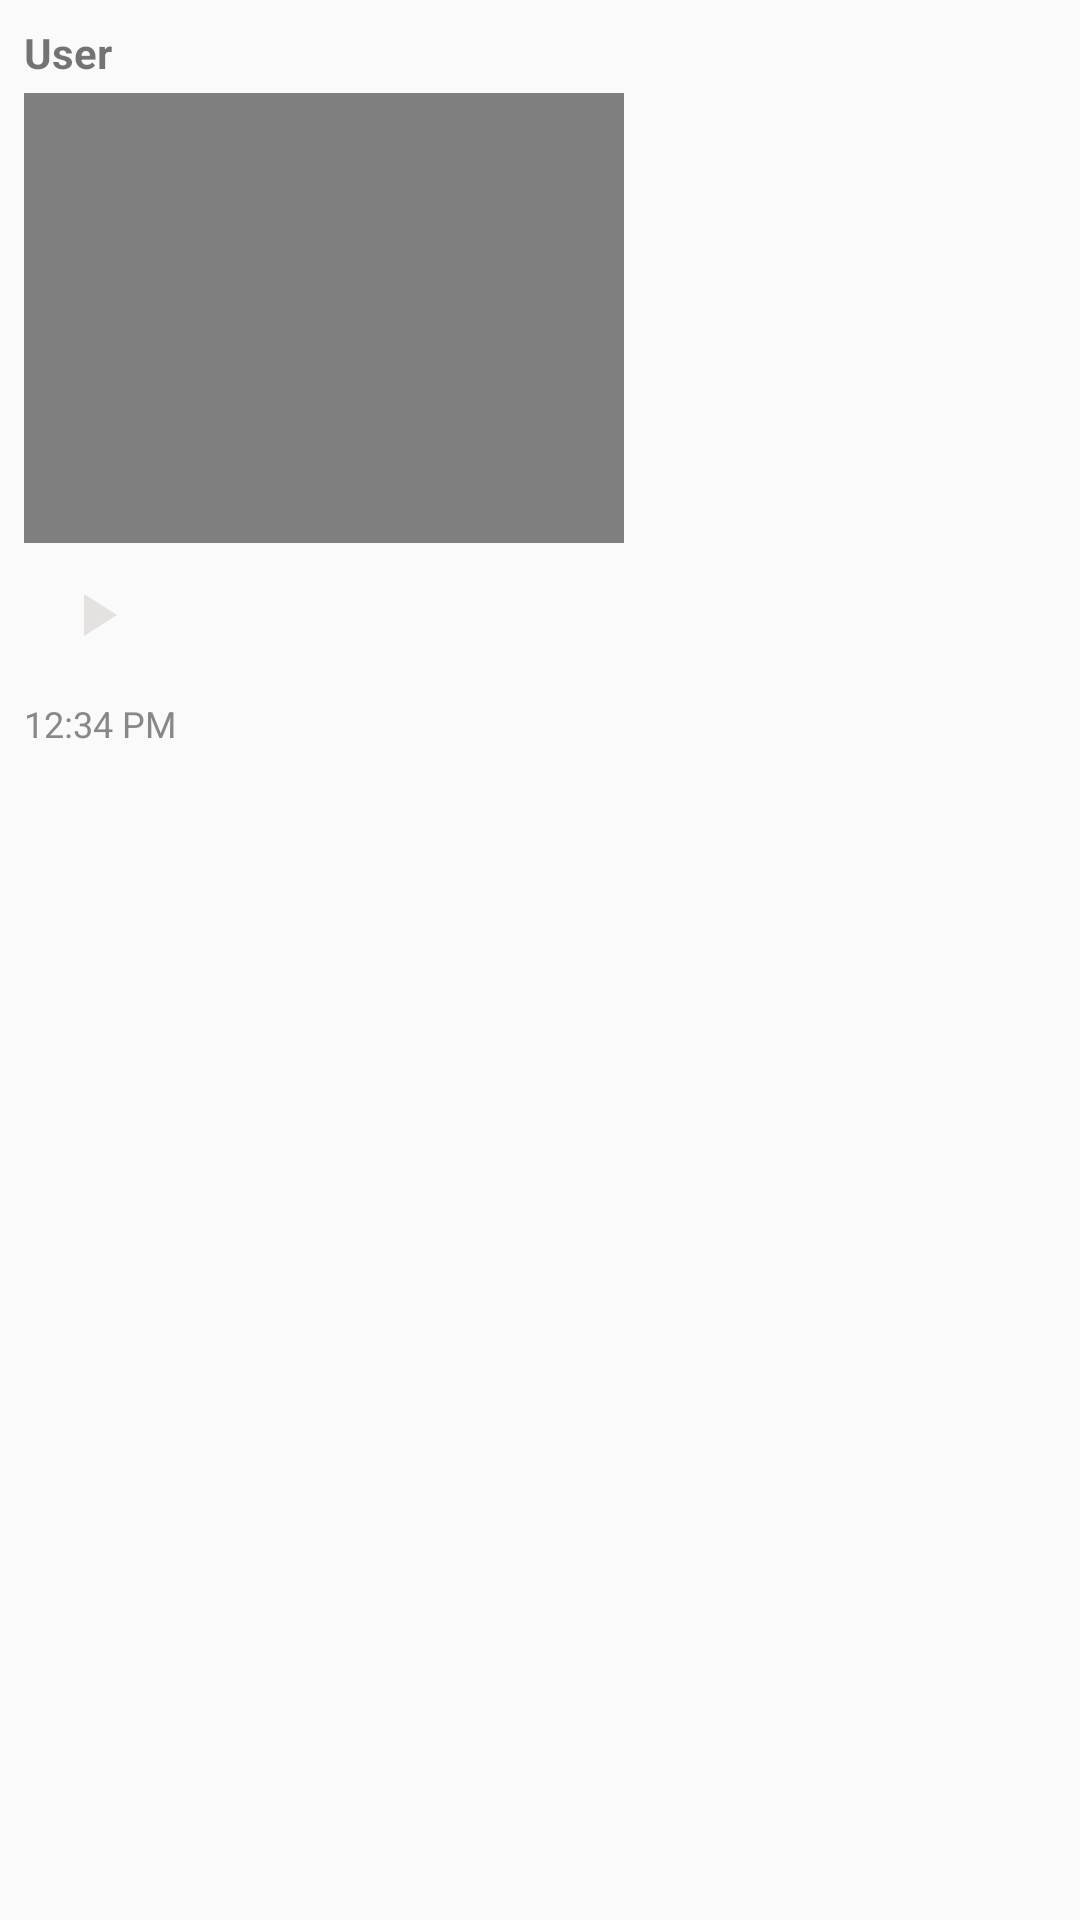

Named icons in this screenshot (1080w x 1920h) and their bounding boxes, (x1, y1, x2, y2):
Play video: (84, 595, 115, 635)
